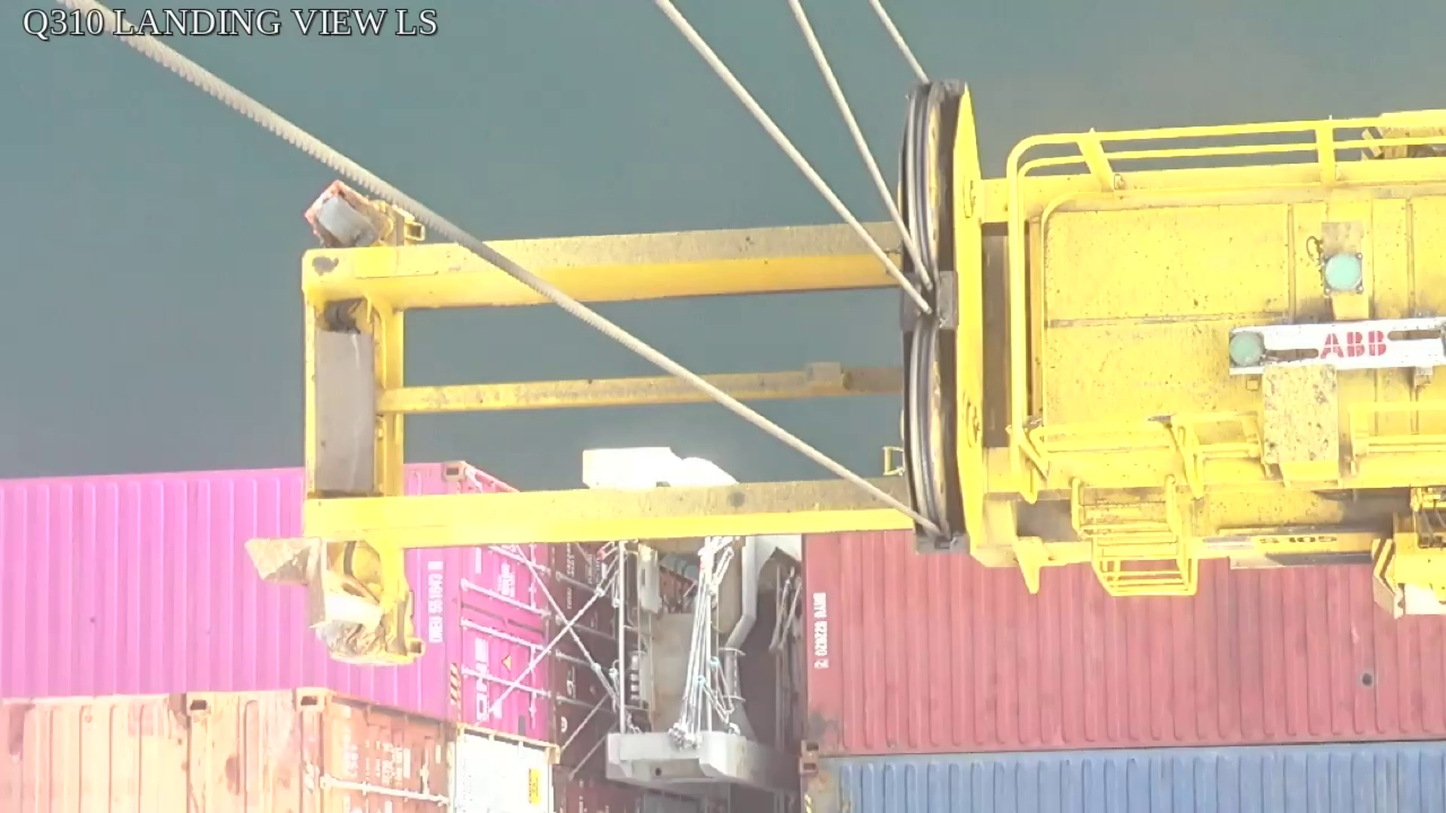aa: (898, 79, 987, 554)
